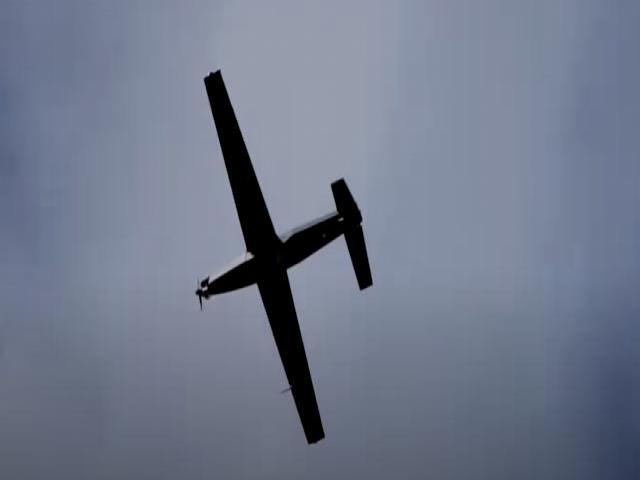iha: (194, 65, 375, 445)
